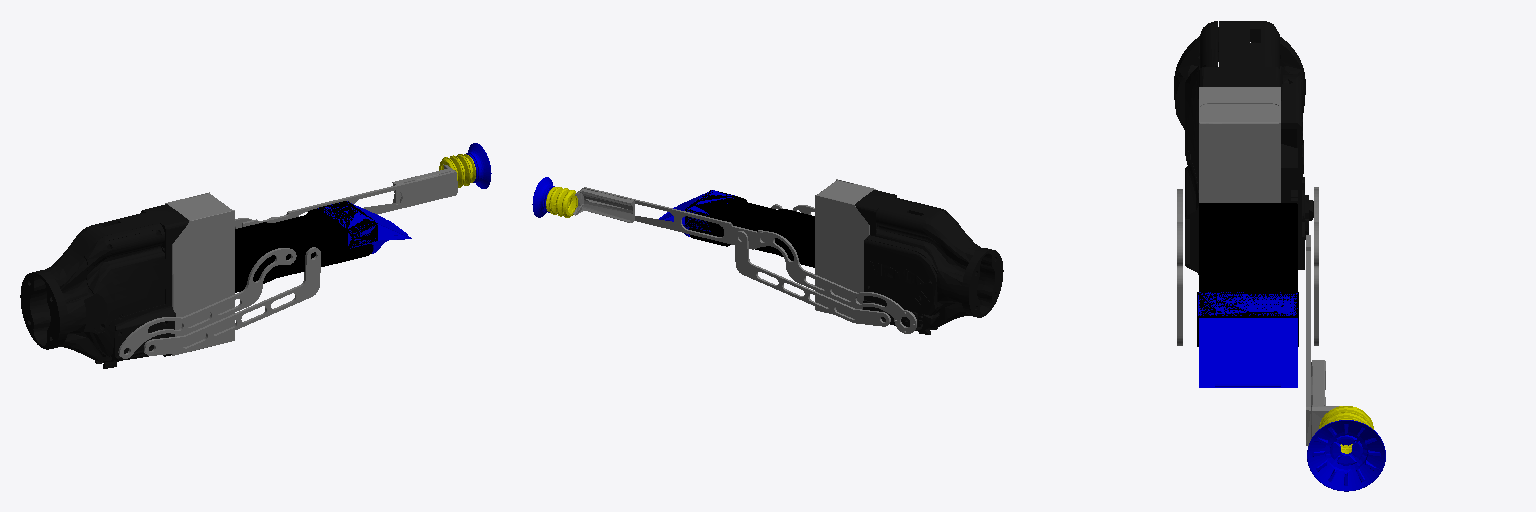
robot.urdf — irb_1600id:
<?xml version="1.0" ?>
<!-- [author] April, 2015-->
<robot name="irb_1600id" xmlns:xacro="http://ros.org/wiki/xacro">
  <link name="base_link">
    <visual>
      <geometry>
        <mesh filename="package://apc_config/models/IRB1600ID/meshes/visual/base_link.stl"/>
      </geometry>
      <origin rpy="0 0 0" xyz="-0.381131 -0.255114 0"/>
      <material name="abb_orange">
        <color rgba="1 0.43 0 1"/>
      </material>
    </visual>
  </link>
  <link name="link_1">
    <visual>
      <geometry>
        <mesh filename="package://apc_config/models/IRB1600ID/meshes/visual/link_1.stl"/>
      </geometry>
      <origin rpy="0 0 0" xyz="-0.264156 -0.1700739 0"/>
      <material name="abb_orange">
        <color rgba="1 0.43 0 1"/>
      </material>
    </visual>
  </link>
  <link name="link_2">
    <visual>
      <geometry>
        <mesh filename="package://apc_config/models/IRB1600ID/meshes/visual/link_2.stl"/>
      </geometry>
      <origin rpy="-1.57079632679 3.14159265359 0" xyz="0.15 -0.4863865 -0.2525"/>
      <material name="abb_orange">
        <color rgba="1 0.43 0 1"/>
      </material>
    </visual>   
  </link>
  <link name="link_3">
    <visual>
      <geometry>
        <mesh filename="package://apc_config/models/IRB1600ID/meshes/visual/link_3.stl"/>
      </geometry>
      <origin rpy="1.57079632679 0 3.14159265359" xyz="0.1825 -1.18649 -0.118"/>
      <material name="abb_orange">
        <color rgba="1 0.43 0 1"/>
      </material>
    </visual>    
  </link>
  <link name="link_4">
    <visual>
      <geometry>
        <mesh filename="package://apc_config/models/IRB1600ID/meshes/visual/link_4.stl"/>
      </geometry>
      <origin rpy="-1.57079632679 -1.57079632679 0" xyz="-0.07019285 -1.2965 -0.1488"/>
      <material name="abb_orange">
        <color rgba="1 0.43 0 1"/>
      </material>
    </visual>
  </link>
  <link name="link_5">
    <visual>
      <geometry>
        <mesh filename="package://apc_config/models/IRB1600ID/meshes/visual/link_5.stl"/>
      </geometry>
      <origin rpy="-1.57079632679 3.14159265359 0" xyz="0.790263 -1.29649 -0.0525337"/>
      <material name="abb_orange">
        <color rgba="1 0.43 0 1"/>
      </material>
    </visual>
  </link>
  
  <link name="link_6">
    <visual>
      <geometry>
        <mesh filename="package://apc_config/models/IRB1600ID/meshes/visual/link_6.stl"/>
      </geometry>
      <origin rpy="0 -1.57079632679 0" xyz="1.2965 -0.04 -0.99"/>
      <material name="abb_black">
        <color rgba="0 0 0 1"/>
      </material>
    </visual>
  </link>
  
  <link name="link_wrist">
    <visual>
      <geometry>
        <mesh filename="package://apc_config/models/wsg_50/meshes/arc2017/wrist_body_compressed.stl" scale="0.001 0.001 0.001"/>
      </geometry>
      <origin rpy="-1.57079632679 0 1.57079632679" xyz="0 0 0"/>
      <material name="abb_black">
        <color rgba="0.1 0.1 0.1 1"/>
      </material>
    </visual>
  </link>
  
  <link name="hand_mount">
  </link>
  
  <joint name="joint1" type="revolute">
    <parent link="base_link"/>
    <child link="link_1"/>
    <limit effort="300" lower="-3.14159265359" upper="3.14159265359" velocity="4.36"/>
    <axis xyz="0 0 1"/>
    <origin rpy="0 0 0" xyz="0 0 0"/>
  </joint>
  <joint name="joint2" type="revolute">
    <parent link="link_1"/>
    <child link="link_2"/>
    <limit effort="300" lower="-1.57079632679" upper="2.61799387799" velocity="4.36"/>
    <axis xyz="0 0 1"/>
    <origin rpy="-1.57079632679 3.14159265359 0" xyz="0.150 0 .4865"/>
  </joint>
  <joint name="joint3" type="revolute">
    <parent link="link_2"/>
    <child link="link_3"/>
    <limit effort="300" lower="-4.15388361975" upper="1.37881010908" velocity="4.36"/>
    <axis xyz="0 0 1"/>
    <origin rpy="3.14159265359 3.14159265359 3.14159265359" xyz="0 0.700 0"/>
  </joint>
  <joint name="joint4" type="revolute">
    <parent link="link_3"/>
    <child link="link_4"/>
    <limit effort="300" lower="-2.70526034059" upper="2.70526034059" velocity="5.58"/>
    <axis xyz="0 0 1"/>
    <origin rpy="0 -1.57079632679 0" xyz="0 0.110 0"/> 
  </joint>
  <joint name="joint5" type="revolute">
    <parent link="link_4"/>
    <child link="link_5"/>
    <limit effort="300" lower="-1.57079632679" upper="2.35619449019" velocity="5.58"/>
    <axis xyz="0 0 1"/>
    <origin rpy="-3.14159265359 1.57079632679 3.14159265359" xyz="0 0 0.64"/>
  </joint>
  <joint name="joint6" type="revolute">
    <parent link="link_5"/>
    <child link="link_6"/>
    <limit effort="300" lower="-3.49065850399" upper="3.49065850399" velocity="7.33"/>
    <axis xyz="0 0 1"/>
    <origin rpy="1.57079632679 0 -1.57079632679" xyz="-0.2 0 0"/>
  </joint>
  <joint name="joint7" type="fixed">
    <parent link="link_6"/>
    <child link="link_wrist"/>
    <limit effort="300" lower="-3.49065850399" upper="3.49065850399" velocity="7.33"/>
    <axis xyz="0 1 0"/>
    <origin rpy="0 0 0" xyz="0 0 0"/>
  </joint>
  <joint name="joint_wristend" type="fixed">
    <parent link="link_wrist"/>
    <child link="hand_mount"/>
    <axis xyz="0 0 1"/>
    <origin rpy="0 0 0" xyz="0 0 0.12"/>
  </joint>
  
  
<!--
  GRIPPER
-->
  <link name="wsg50_base_link">
    <visual>
      <geometry>
        <mesh filename="package://apc_config/models/wsg_50/meshes/arc2017/gripper_compressed.stl" scale="0.001 0.001 0.001"/>
      </geometry>
      <origin rpy="-1.57079632679 0 1.57079632679" xyz="0 0 0"/>
      <material name="grey">
        <color rgba="0.5 0.5 0.5 1"/>
      </material>
    </visual>
  </link>

  <joint name="joint_hand" type="fixed">
    <parent link="link_wrist"/>
    <child link="wsg50_base_link"/>
    <origin rpy="0 0 0" xyz="0 0 0"/>
  </joint>

<!--
  TOP FINGER
-->
  <link name="top_finger">
      <visual>
          <origin xyz="0.0 0 0" rpy="-1.57079632679 0 1.57079632679" />
          <geometry>
             <mesh filename="package://apc_config/models/wsg_50/meshes/arc2017/top_finger_compressed.stl" scale="0.001 0.001 0.001"/>
          </geometry>
          <material name="abb_black">
<!--
              <color rgba=".15 .15 .15 1"/>
-->
        </material>
      </visual>
  </link>
  
  <joint name="wsg_50_gripper_base_joint_gripper_left" type="prismatic">
     <limit lower="-0.055" upper="0" effort="1.0" velocity="1.0"/>
     <origin xyz="0 0 0" rpy="0 0 0" />    
     <parent link="link_wrist"/>
     <child link="top_finger" />
     <axis xyz="1 0 0"/>
  </joint>

<!--
  BOTTOM FINGER
-->
  <link name="bot_finger">
      <visual>
          <origin xyz="0.0 0 0" rpy="-1.57079632679 0 1.57079632679" />
          <geometry>
             <mesh filename="package://apc_config/models/wsg_50/meshes/arc2017/bot_finger_compressed.stl" scale="0.001 0.001 0.001"/>
          </geometry>
          <material name="abb_black">
        </material>
      </visual>
  </link>
  
  <joint name="wsg_50_gripper_base_joint_gripper_right" type="prismatic">
     <limit lower="0" upper="0.055" effort="1.0" velocity="1.0"/>
     <origin xyz="0 0 0" rpy="0 0 0" />    
     <parent link="link_wrist"/>
     <child link="bot_finger" />
     <axis xyz="1 0 0"/>
  </joint>
  
<!--
  TOP SPATULA
-->
  <link name="top_spatula">
      <visual>
          <origin xyz="0.0 0 0" rpy="-1.57079632679 0 1.57079632679" />
          <geometry>
             <mesh filename="package://apc_config/models/wsg_50/meshes/arc2017/top_spatula.stl" scale="0.001 0.001 0.001"/>
          </geometry>
          <material name="blue">
              <color rgba="0 0 .85 1"/>
        </material>
      </visual>
  </link>
  
  <joint name="top_spatula_joint" type="fixed">
     <origin xyz="0 0 0" rpy="0 0 0" />    
     <parent link="top_finger"/>
     <child link="top_spatula" />
     <axis xyz="-1 0 0"/>
  </joint>
<!--
  BOTTOM SPATULA
-->
  <link name="bot_spatula_centered">
      <visual>
          <origin xyz="0.0 0 0" rpy="-1.57079632679 0 1.57079632679" />
          <geometry>
             <mesh filename="package://apc_config/models/wsg_50/meshes/arc2017/bot_spatula_centered.stl" scale="0.001 0.001 0.001"/>
          </geometry>
          <material name="blue">
        </material>
      </visual>
  </link>
  
  <joint name="bot_spatula_joint" type="revolute">
     <origin xyz="0.00730000 0 .367279" rpy="0 0 0" />    
     <parent link="bot_finger"/>
     <child link="bot_spatula_centered" />
     <axis xyz="0 1 0"/>
    <limit effort="1" lower="-.4" upper="0" velocity="1"/>
  </joint>
<!--
  SCORPION BOT LINK
  -->
  <link name="scorpion_tail_bot_link">
      <visual>
          <origin xyz="0.0 0 0" rpy="-1.57079632679 0 1.57079632679" />
          <geometry>
             <mesh filename="package://apc_config/models/wsg_50/meshes/arc2017/bot_link_centered.stl" scale="0.001 0.001 0.001"/>
          </geometry>
          <material name="grey">
        </material>
      </visual>
  </link>
  
  <joint name="scorpion_tail_bot_link_joint" type="revolute">
     <origin xyz="0.05173285 0 0.109116" rpy="0 0 0" />    
     <parent link="link_wrist"/>
     <child link="scorpion_tail_bot_link" />
     <axis xyz="0 1 0"/>
    <limit effort="1" lower="-1.85" upper="0" velocity="1"/>
  </joint>
<!--
  SCORPION TOP LINK
  -->
  <link name="scorpion_tail_top_link">
      <visual>
          <origin xyz="0.0 0 0" rpy="-1.57079632679 0 1.57079632679" />
          <geometry>
             <mesh filename="package://apc_config/models/wsg_50/meshes/arc2017/top_link_centered.stl" scale="0.001 0.001 0.001"/>
          </geometry>
          <material name="grey">
        </material>
      </visual>
  </link>
  
  <joint name="scorpion_tail_top_link_joint" type="revolute">
     <origin xyz="0.047938  0 0.079116" rpy="0 0 0" />    
     <parent link="link_wrist"/>
     <child link="scorpion_tail_top_link" />
     <axis xyz="0 1 0"/>
    <limit effort="1" lower="-1.81" upper="0" velocity="1"/>
  </joint>
<!--
  SCORPION PLATFORM
  -->
  <link name="scorpion_tail_platform">
      <visual>
          <origin xyz="0.0 0 0" rpy="-1.57079632679 0 1.57079632679" />
          <geometry>
             <mesh filename="package://apc_config/models/wsg_50/meshes/arc2017/scorpion_platform_centered_compressed.stl" scale="0.001 0.001 0.001"/>
          </geometry>
          <material name="grey">
        </material>
      </visual>
  </link>
  
  <joint name="scorpion_tail_platform_joint" type="revolute">
     <origin xyz="-.060448 0 0.18913" rpy="0 0 0" />    
     <parent link="scorpion_tail_top_link"/>
     <child link="scorpion_tail_platform" />
     <axis xyz="0 1 0"/>
    <limit effort="1" lower="0" upper="1.81" velocity="1"/>
  </joint>
<!--
  SUCTION CUP ELBOW
  -->
  <link name="suction_below_centered">
      <visual>
          <origin xyz="0.0 0 0" rpy="-1.57079632679 0 1.57079632679" />
          <geometry>
             <mesh filename="package://apc_config/models/wsg_50/meshes/arc2017/suction_below_compressed.stl" scale="0.001 0.001 0.001"/>
          </geometry>
          <material name="yellow">
        <color rgba=".8 .8 0 1"/>
        </material>
      </visual>
  </link>
  
  <joint name="suction_below_joint" type="fixed">
     <origin xyz="0.0 0 0.0" rpy="0 0 0" />    
     <parent link="scorpion_tail_platform"/>
     <child link="suction_below_centered" />
  </joint>
<!--
  SUCTION CUP
  -->
  <link name="suction_cup">
      <visual>
          <origin xyz="0.0 0 0" rpy="-1.57079632679 0 1.57079632679" />
          <geometry>
             <mesh filename="package://apc_config/models/wsg_50/meshes/arc2017/suction_cup_compressed.stl" scale="0.001 0.001 0.001"/>
          </geometry>
          <material name="blue">
        </material>
      </visual>
  </link>
  
  <joint name="suction_cup_joint" type="fixed">
     <origin xyz="0 0 0" rpy="0 0 0" />    
     <parent link="scorpion_tail_platform"/>
     <child link="suction_cup" />
  </joint>

</robot>

--- Render facts (derived) ---
3 views of the same robot in one strip: view 1: azimuth 30°, elevation 25°; view 2: azimuth 150°, elevation 25°; view 3: azimuth 270°, elevation 25° (orthographic).
Robot: irb_1600id — 19 links, 18 joints (10 revolute, 2 prismatic, 6 fixed); root link base_link; default pose: every joint at zero.
Visible links, largest first — view 1: link_wrist, wsg50_base_link, top_finger, scorpion_tail_platform, scorpion_tail_bot_link, scorpion_tail_top_link, bot_finger, top_spatula, suction_below_centered, suction_cup; view 2: link_wrist, wsg50_base_link, top_finger, scorpion_tail_platform, scorpion_tail_top_link, scorpion_tail_bot_link, suction_below_centered, bot_finger, suction_cup; view 3: link_wrist, top_finger, wsg50_base_link, top_spatula, suction_cup, scorpion_tail_platform, scorpion_tail_bot_link, scorpion_tail_top_link, suction_below_centered.
Boxes of the visible links, left/top/right/bottom form: link_wrist: left=20, top=204, right=188, bottom=368; wsg50_base_link: left=165, top=192, right=234, bottom=355; top_finger: left=235, top=201, right=377, bottom=274; scorpion_tail_platform: left=242, top=164, right=457, bottom=226; scorpion_tail_bot_link: left=144, top=217, right=320, bottom=355; scorpion_tail_top_link: left=118, top=218, right=296, bottom=358; bot_finger: left=235, top=244, right=372, bottom=292; top_spatula: left=318, top=201, right=411, bottom=248; suction_below_centered: left=439, top=154, right=475, bottom=187; suction_cup: left=466, top=143, right=491, bottom=188; link_wrist: left=855, top=190, right=1003, bottom=334; wsg50_base_link: left=815, top=179, right=875, bottom=318; top_finger: left=685, top=190, right=814, bottom=255; scorpion_tail_platform: left=573, top=187, right=765, bottom=249; scorpion_tail_top_link: left=756, top=205, right=916, bottom=333; scorpion_tail_bot_link: left=734, top=204, right=890, bottom=326; suction_below_centered: left=546, top=187, right=577, bottom=217; bot_finger: left=689, top=228, right=814, bottom=267; suction_cup: left=532, top=177, right=554, bottom=217; link_wrist: left=1174, top=21, right=1313, bottom=274; top_finger: left=1197, top=203, right=1298, bottom=346; wsg50_base_link: left=1199, top=87, right=1280, bottom=202; top_spatula: left=1198, top=292, right=1297, bottom=387; suction_cup: left=1307, top=420, right=1385, bottom=491; scorpion_tail_platform: left=1306, top=235, right=1338, bottom=445; scorpion_tail_bot_link: left=1177, top=266, right=1318, bottom=345; scorpion_tail_top_link: left=1177, top=187, right=1318, bottom=265; suction_below_centered: left=1319, top=406, right=1373, bottom=453.
Size in the robot's own frame: 0.5504 by 0.1287 by 0.1525 metres.
Meshes: 18 distinct files referenced, 11 mesh visuals loaded (11 binary STL); not drawn: 7 (reference not matched to a file when rendering).
